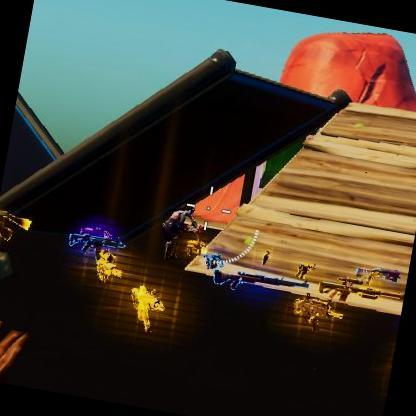person: (159, 204, 190, 256), (262, 250, 270, 264)
